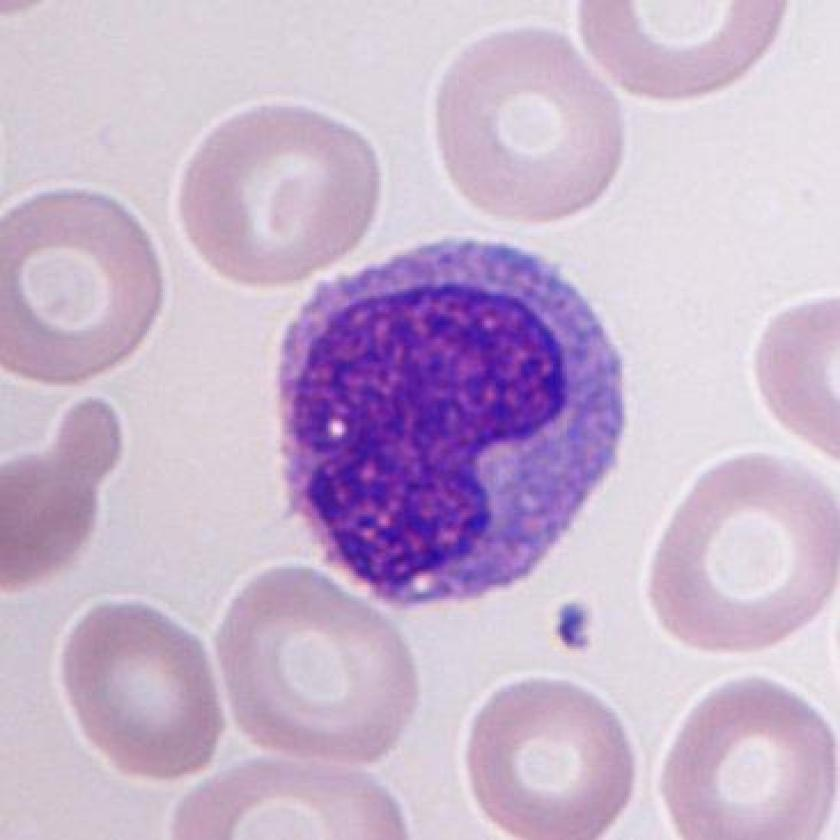monocyte: (254, 220, 649, 639)
